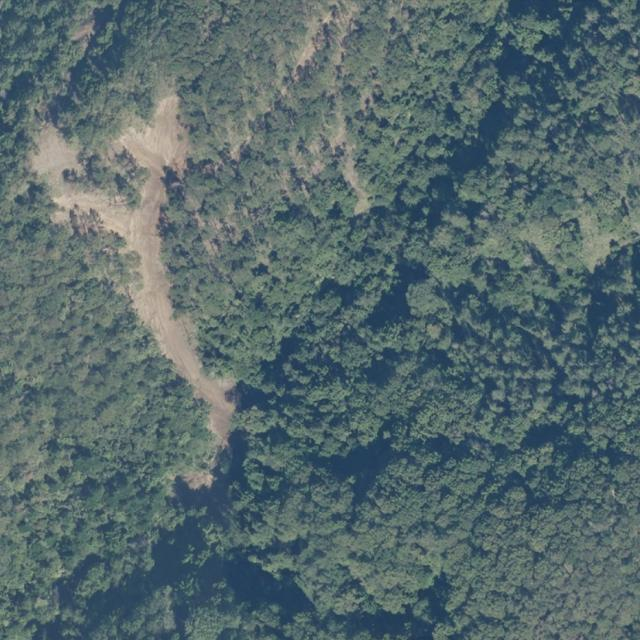landslide: (31, 94, 235, 447)
